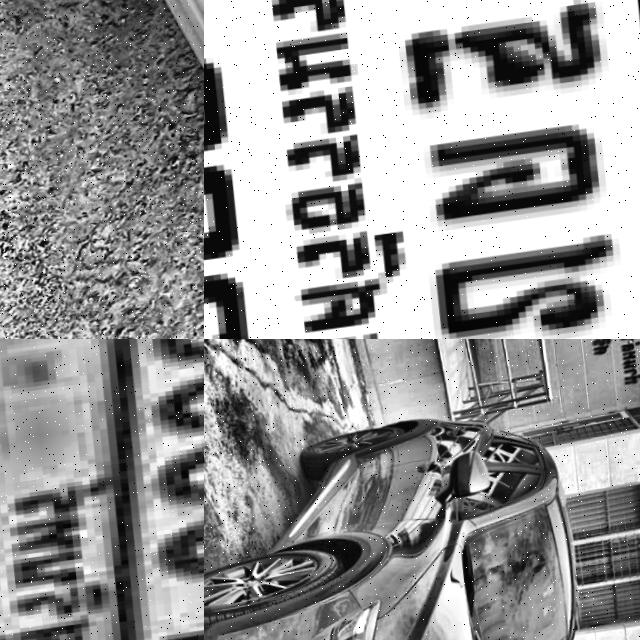license-plate: (204, 0, 640, 339), (0, 339, 204, 640), (26, 0, 204, 339)
